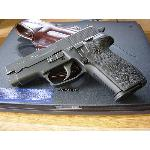Pistol: (5, 25, 147, 103)
